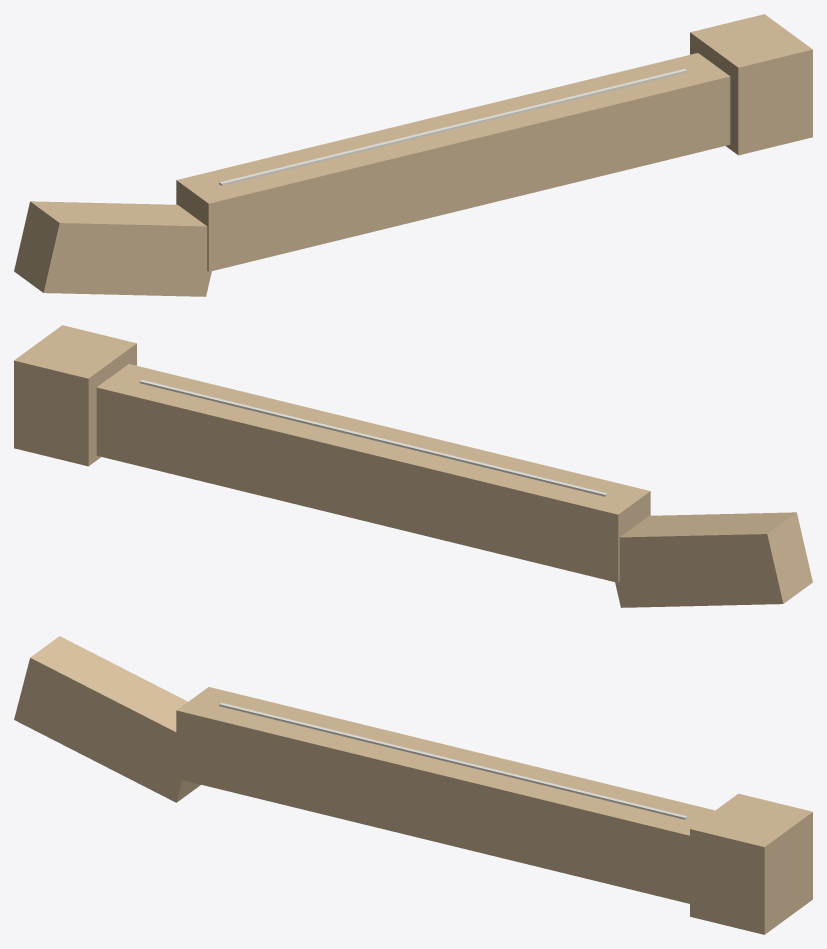
The model's file is prop-tiller-stock-blank.fbx.
3 renders of one model, top to bottom at view 1: azimuth 30°, elevation 25°; view 2: azimuth 150°, elevation 25°; view 3: azimuth 330°, elevation 25°, orthographic.
Parts seen in each view (by area): view 1: prop-tiller-stock-blank; view 2: prop-tiller-stock-blank; view 3: prop-tiller-stock-blank.
Boxes of the visible parts, box(x1,y1,x2,y2) form: prop-tiller-stock-blank: box(14, 14, 812, 296); prop-tiller-stock-blank: box(14, 325, 812, 607); prop-tiller-stock-blank: box(14, 636, 812, 934).
Bounding box in the file's own units: 81.59 × 11.24 × 9.
